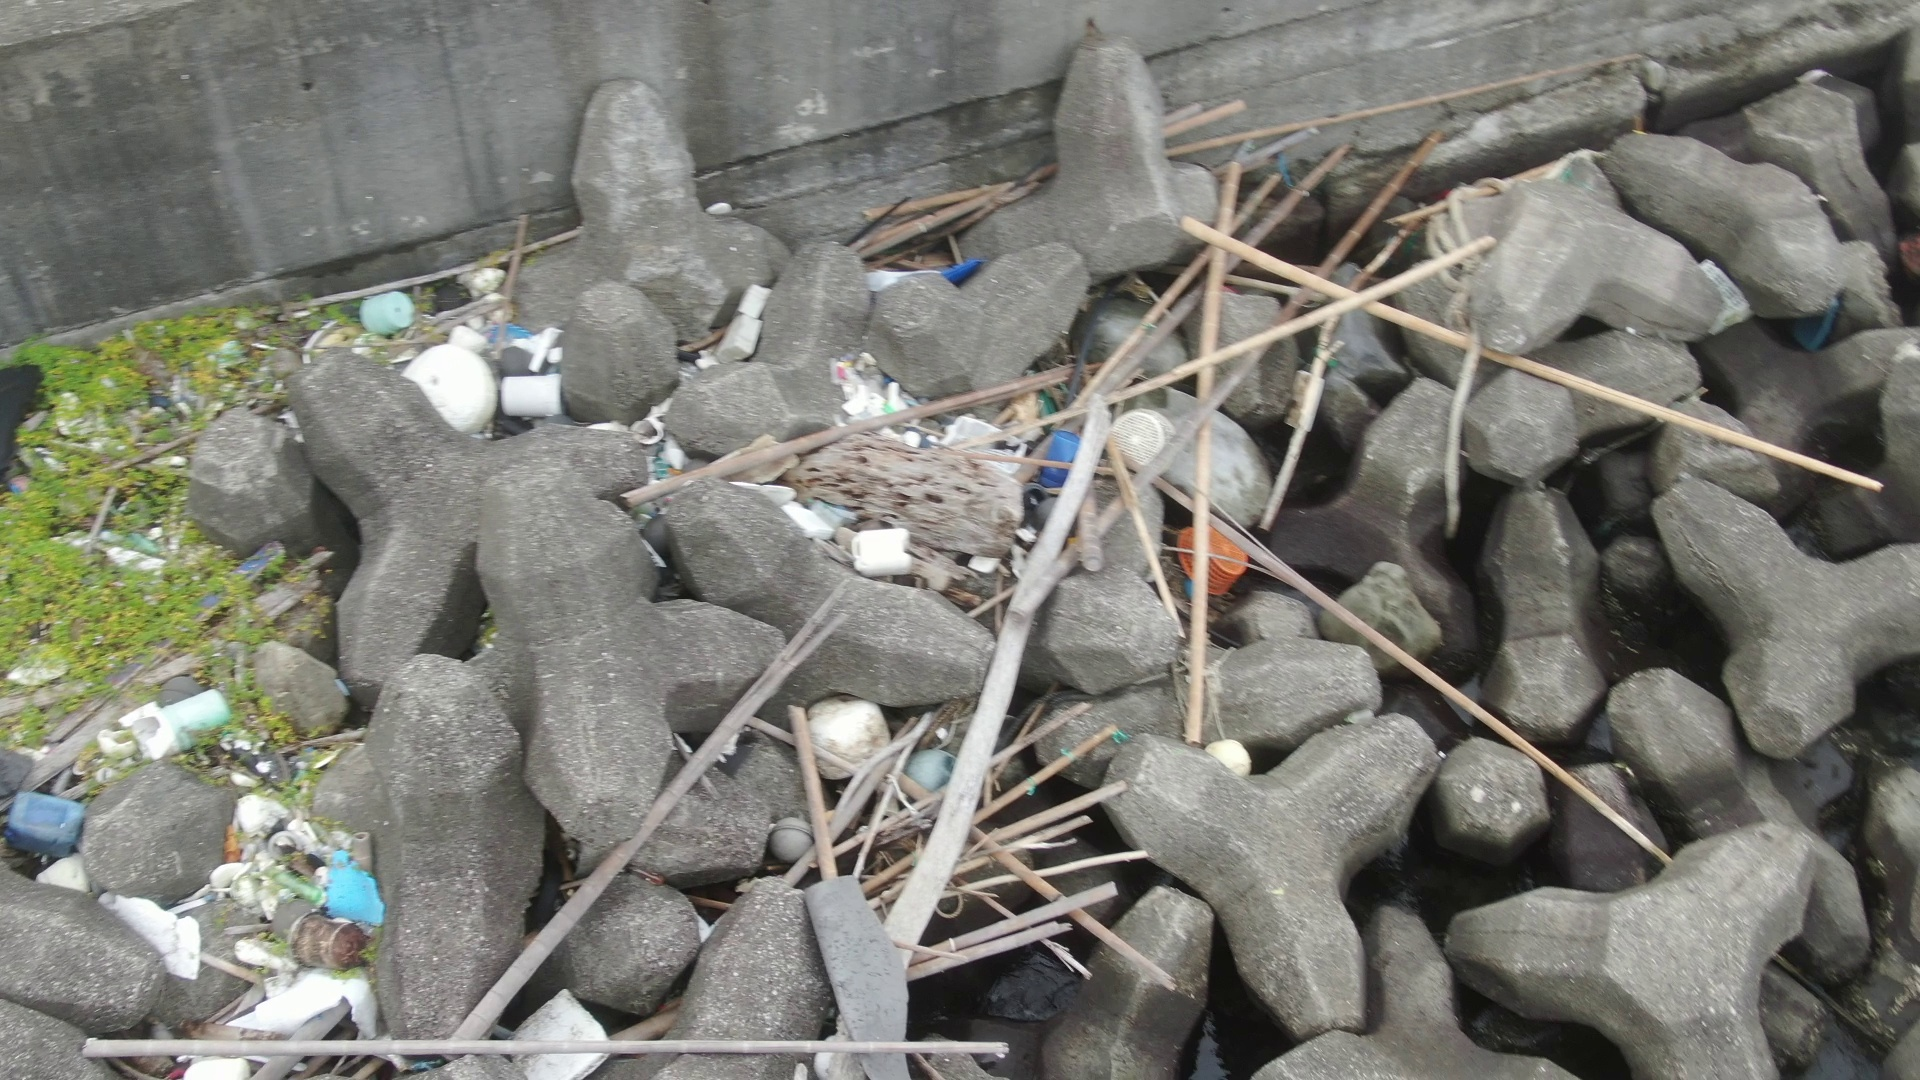garbage: (820, 344, 1048, 585), (177, 988, 618, 1080), (777, 680, 964, 876), (198, 790, 389, 971), (345, 281, 578, 429), (36, 855, 218, 986), (95, 684, 251, 765), (1036, 401, 1185, 479), (728, 431, 818, 556), (603, 396, 698, 504), (852, 237, 986, 299), (1168, 512, 1255, 597), (5, 786, 88, 860), (711, 280, 777, 369)
